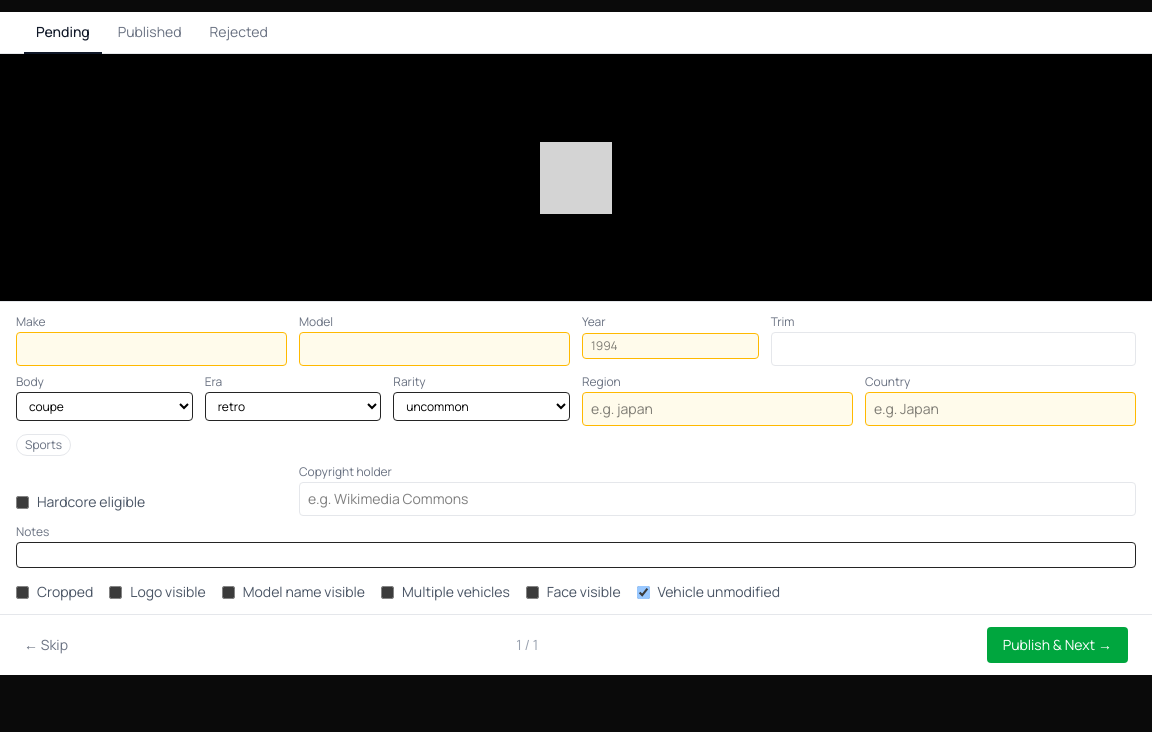
Scenario: ReviewQueuePanel › blocks → and shows field errors when required fields are missing
This screenshot has width=1152, height=732.
Step 1. Click the button "Publish & Next →" → (1057, 645), box [987,627,1128,663]
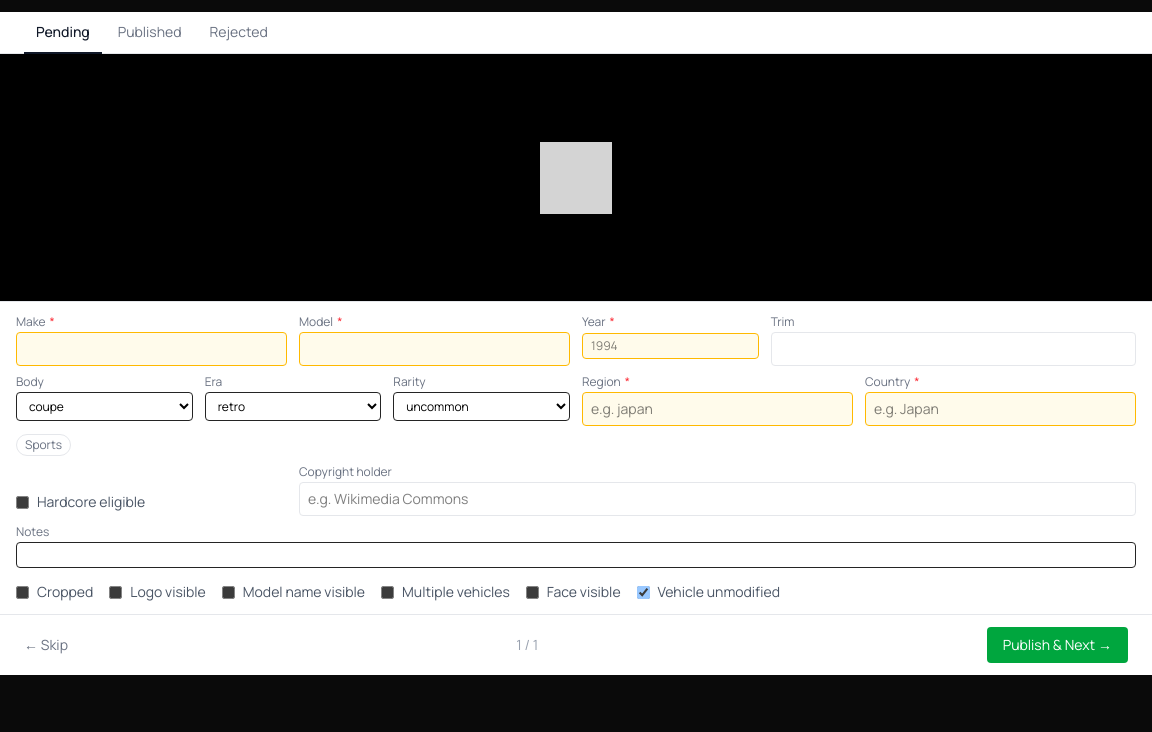
Check: the text "*" next to "Make" is shown, box [50,313,55,330]
